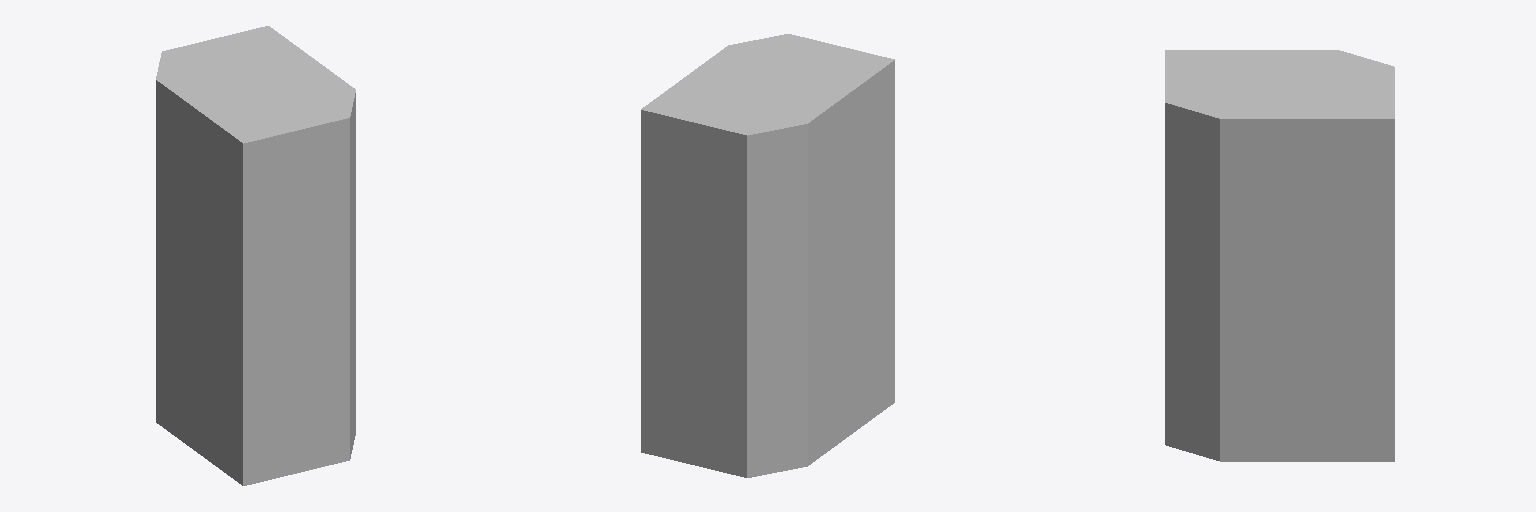
File: New_york_buildings.obj
3 renders of one model, left to right at view 1: azimuth 30°, elevation 25°; view 2: azimuth 150°, elevation 25°; view 3: azimuth 270°, elevation 25°, orthographic.
Parts seen in each view (by area): view 1: b6; view 2: b6; view 3: b6.
Boxes of the visible parts, <box> form: b6: <box>156,26,355,485</box>; b6: <box>641,34,894,477</box>; b6: <box>1165,50,1394,461</box>.
Bounding box in the file's own units: 0.7835 × 1.83 × 1.11.